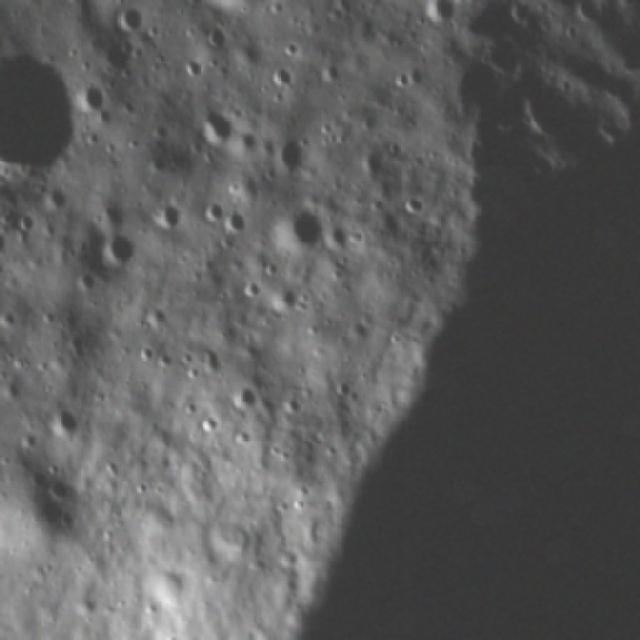crater: (3, 41, 77, 188), (514, 77, 574, 146), (260, 204, 326, 253), (189, 98, 234, 152), (101, 4, 157, 36), (142, 568, 189, 606), (76, 70, 112, 119), (272, 134, 314, 171), (260, 53, 297, 93), (409, 3, 471, 25), (150, 196, 182, 233), (108, 228, 134, 264), (52, 399, 74, 441), (200, 338, 222, 376), (71, 267, 98, 296), (235, 273, 263, 299), (208, 15, 230, 48), (131, 336, 155, 366), (386, 65, 414, 90), (272, 288, 298, 314), (397, 195, 425, 219), (198, 200, 228, 222), (2, 374, 24, 404), (14, 207, 34, 236), (36, 301, 58, 325), (329, 379, 353, 399), (49, 192, 71, 213), (50, 477, 72, 498), (198, 416, 219, 438), (20, 425, 38, 449), (225, 210, 244, 232), (232, 427, 250, 448), (0, 310, 22, 327), (178, 401, 198, 419), (182, 366, 201, 383), (157, 350, 174, 368), (289, 497, 306, 514), (176, 350, 196, 364), (44, 461, 61, 476)
